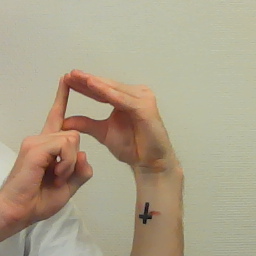P: (16, 67, 179, 215)
